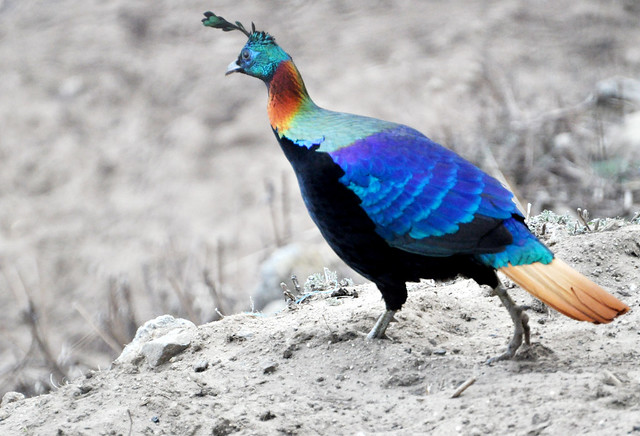bird: (194, 8, 632, 364)
